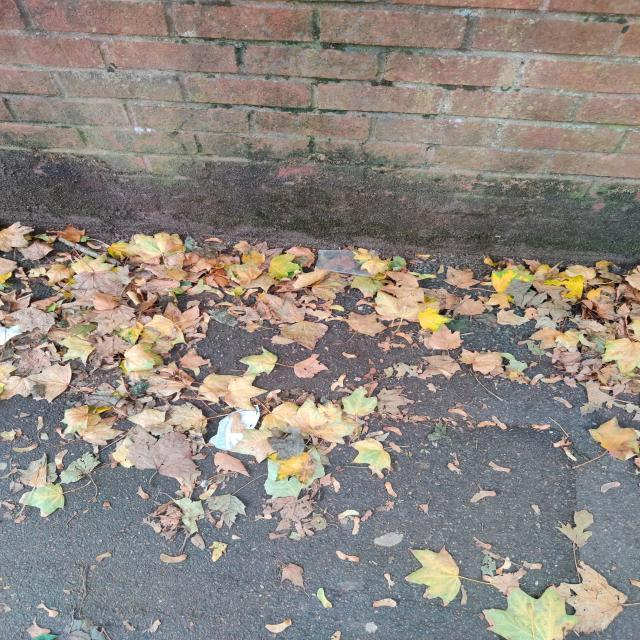litter: (315, 250, 378, 278)
